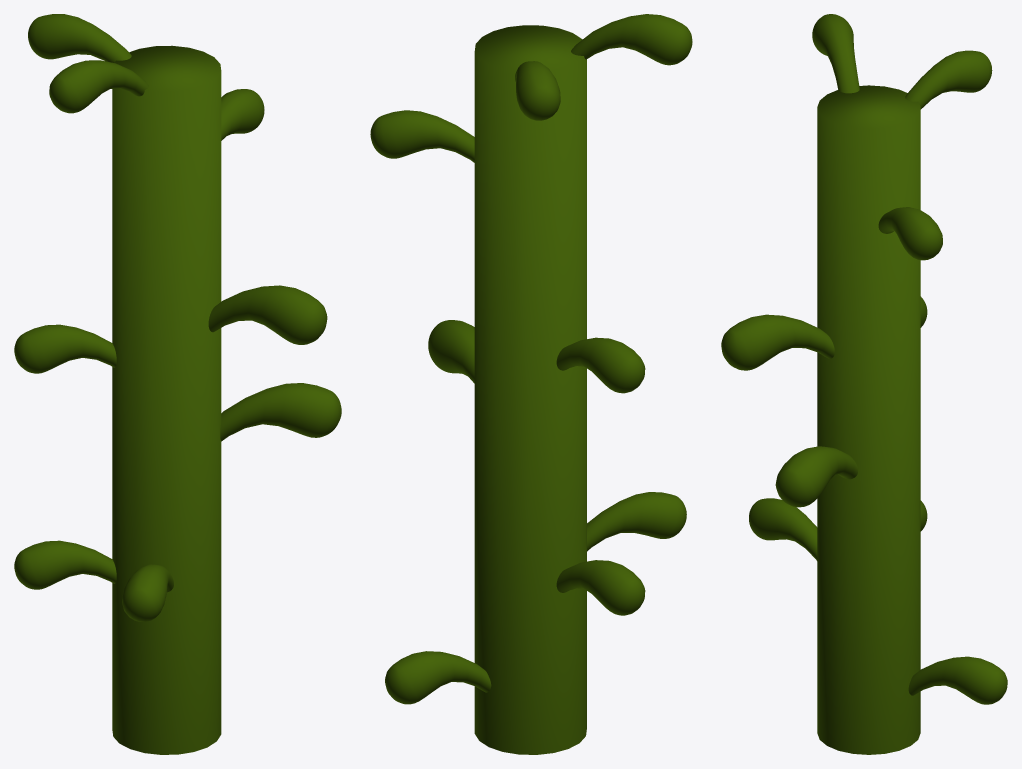
Rendered from l_wielki_korzen_2.fbx.
3 views of the same model, side by side, from view 1: azimuth 30°, elevation 25°; view 2: azimuth 150°, elevation 25°; view 3: azimuth 270°, elevation 25° (orthographic). The views are drawn at different scales.
Visible parts, largest first — view 1: drzewo_duze; view 2: drzewo_duze; view 3: drzewo_duze.
Part boxes in pixels (x1,y1,x2,y2): drzewo_duze: [14, 14, 341, 754]; drzewo_duze: [370, 14, 692, 754]; drzewo_duze: [721, 14, 1007, 754].
Bounding box in the file's own units: 5.04 × 4.93 × 12.65.
